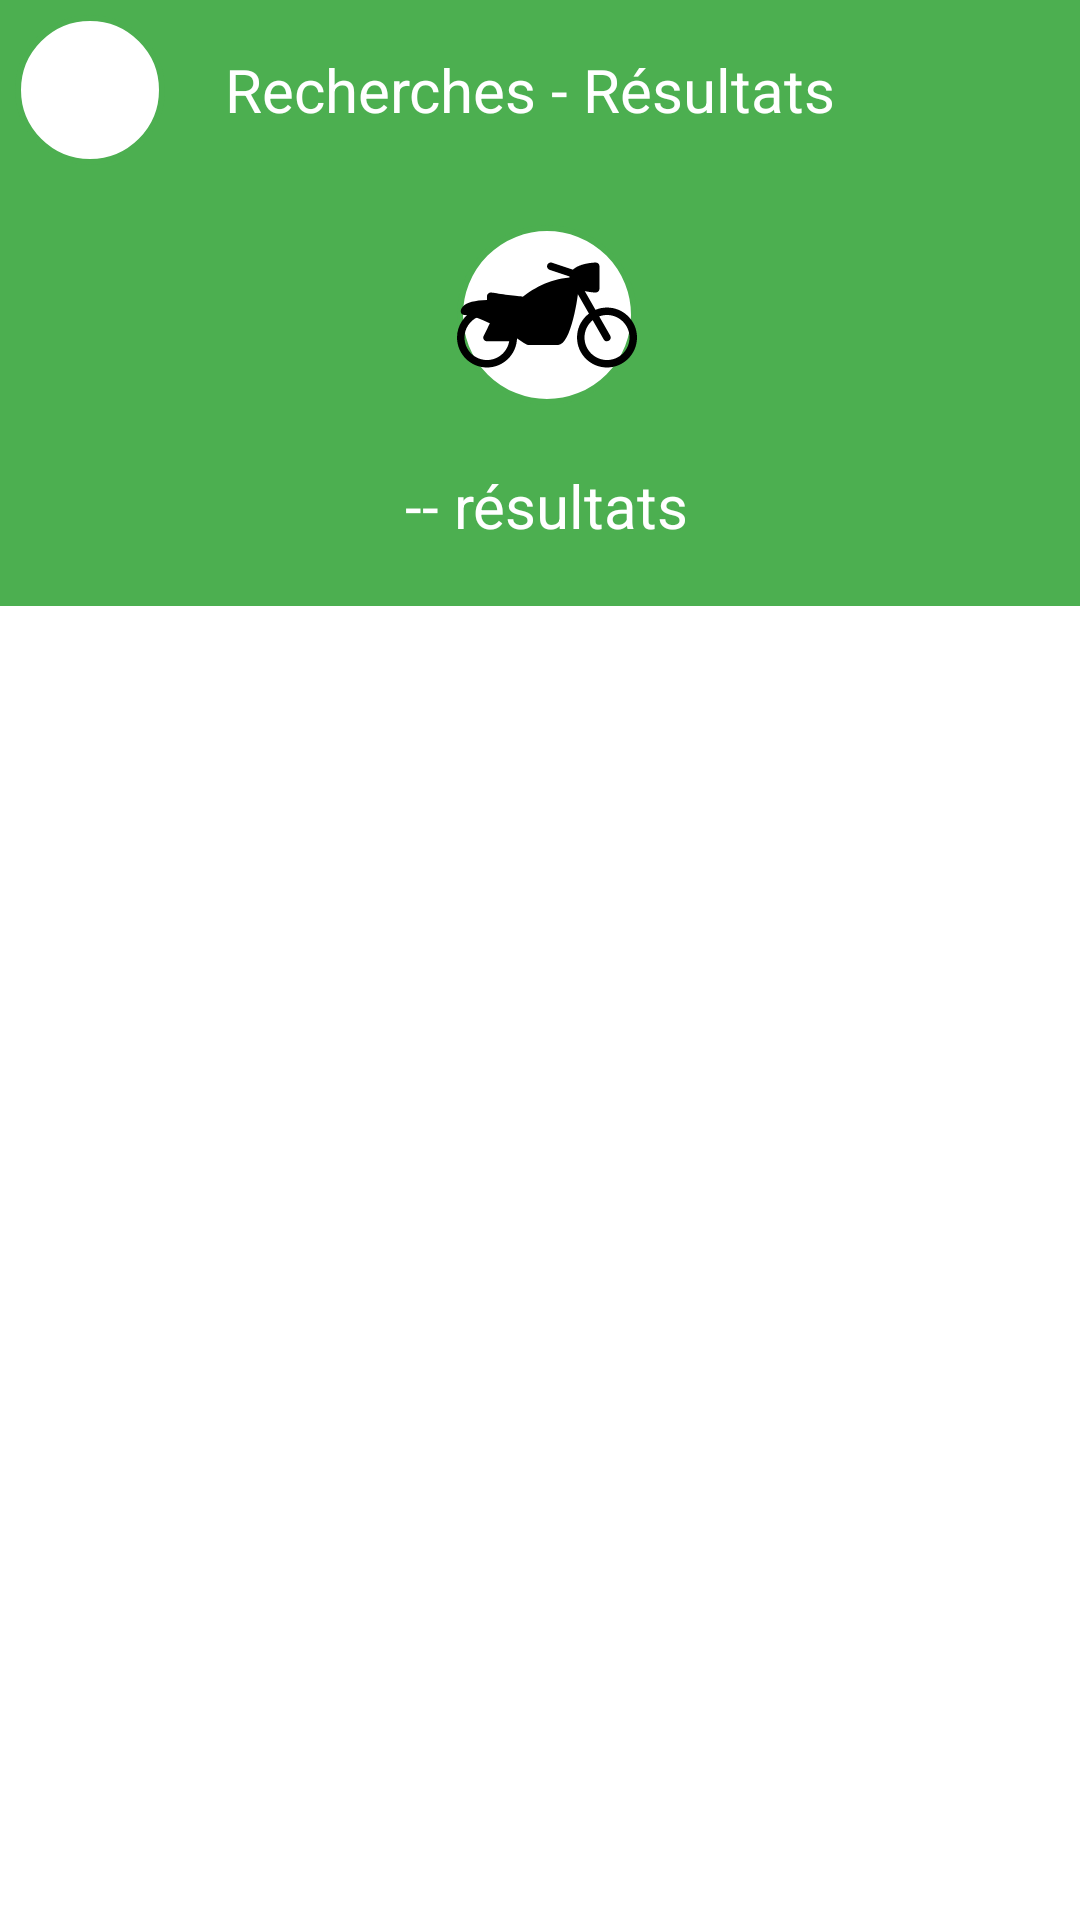

Icons on this 1080 × 1920 Android screen, each with the point to tap as [x,y]:
bike: [547,315]
